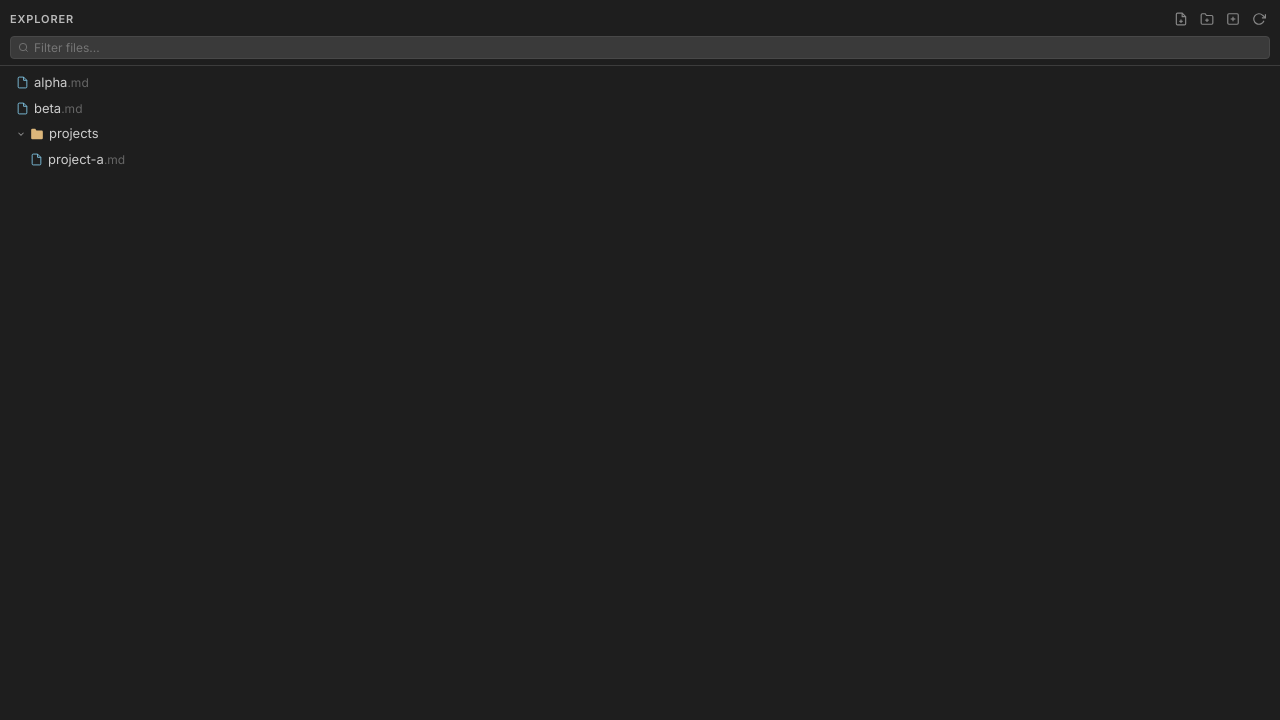
it: FileTree › InputModal for new file/folder › shows InputModal when New folder button is clicked
The image size is (1280, 720).
Click the button titled "New folder".
click(1207, 19)  # box [1196,8,1218,30]
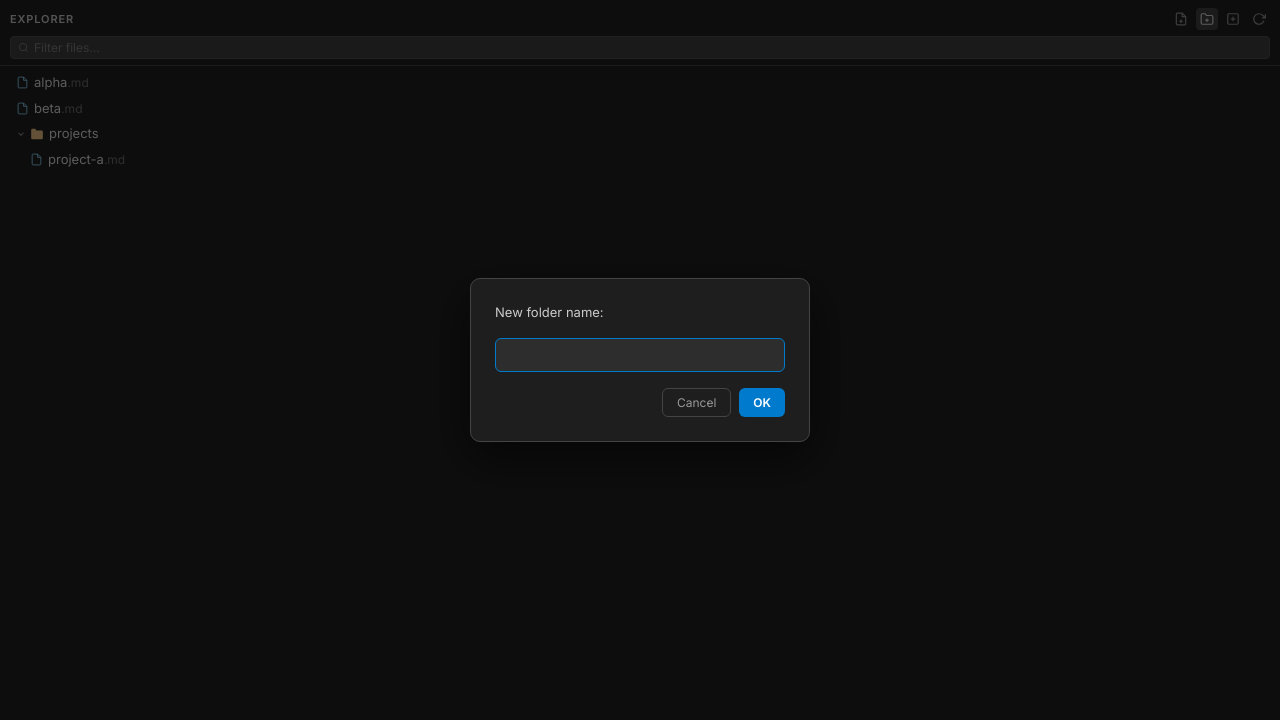
Expected: the text "New folder name:" is shown, [495,304,604,320]
